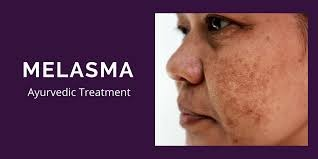Melasma: (208, 48, 267, 138)
